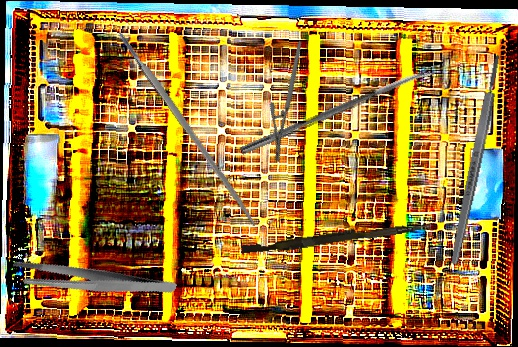Dressing Forceps: (8, 226, 178, 335)
Needle Holder: (240, 39, 338, 165)
Pusher: (241, 216, 430, 259)
Scalpel Handle: (115, 28, 260, 228), (447, 54, 505, 266)
Surgical Spoon: (239, 65, 438, 156)
